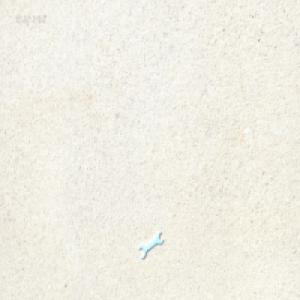Wrench: (139, 231, 164, 259)
